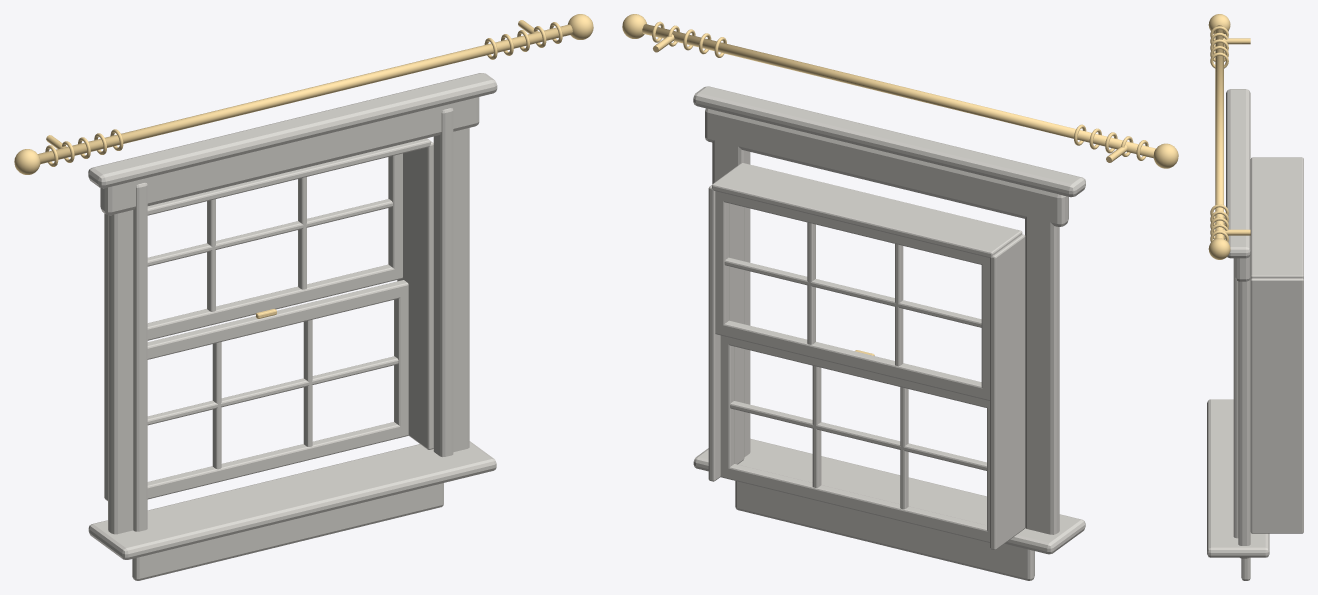
The model's file is room_window.glb.
3 renders of one model, left to right at view 1: azimuth 30°, elevation 25°; view 2: azimuth 150°, elevation 25°; view 3: azimuth 270°, elevation 25°, orthographic. The views are drawn at different scales.
Visible parts, largest first — view 1: room_window; view 2: room_window; view 3: room_window.
Boxes of the visible parts, left/top/right/bottom form: room_window: left=14, top=14, right=593, bottom=580; room_window: left=622, top=14, right=1178, bottom=580; room_window: left=1207, top=14, right=1303, bottom=580.
Bounding box in the file's own units: 3.54 × 2.78 × 0.62.
